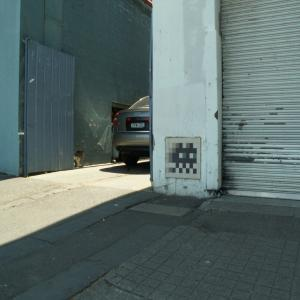Vehicle-registration-plate: (131, 123, 146, 130)
